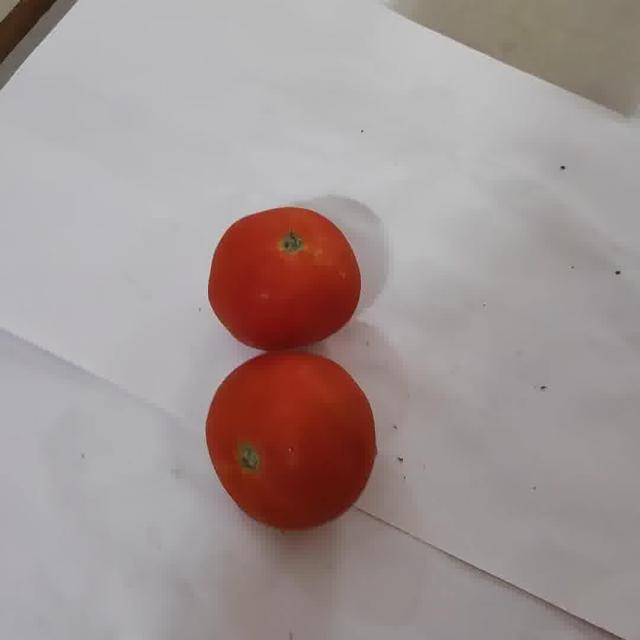Tomato: (206, 354, 376, 529), (208, 207, 360, 350)
